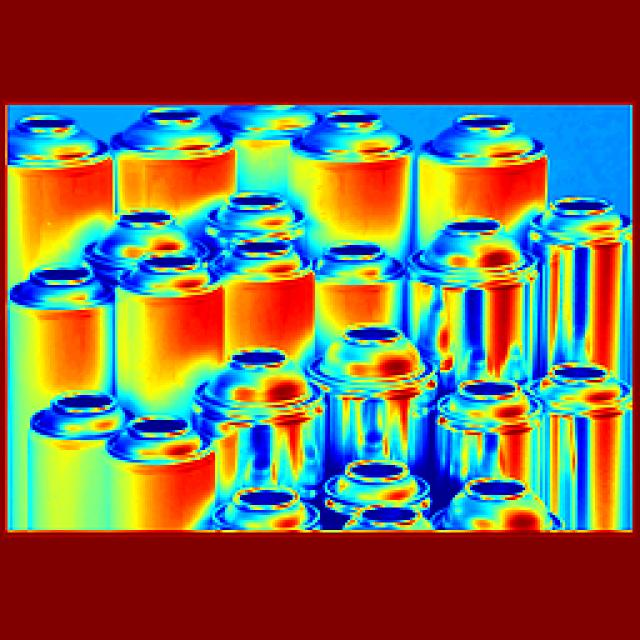Aerosol Cans: (117, 242, 226, 417), (297, 109, 421, 254), (530, 187, 626, 365), (9, 109, 116, 268)
